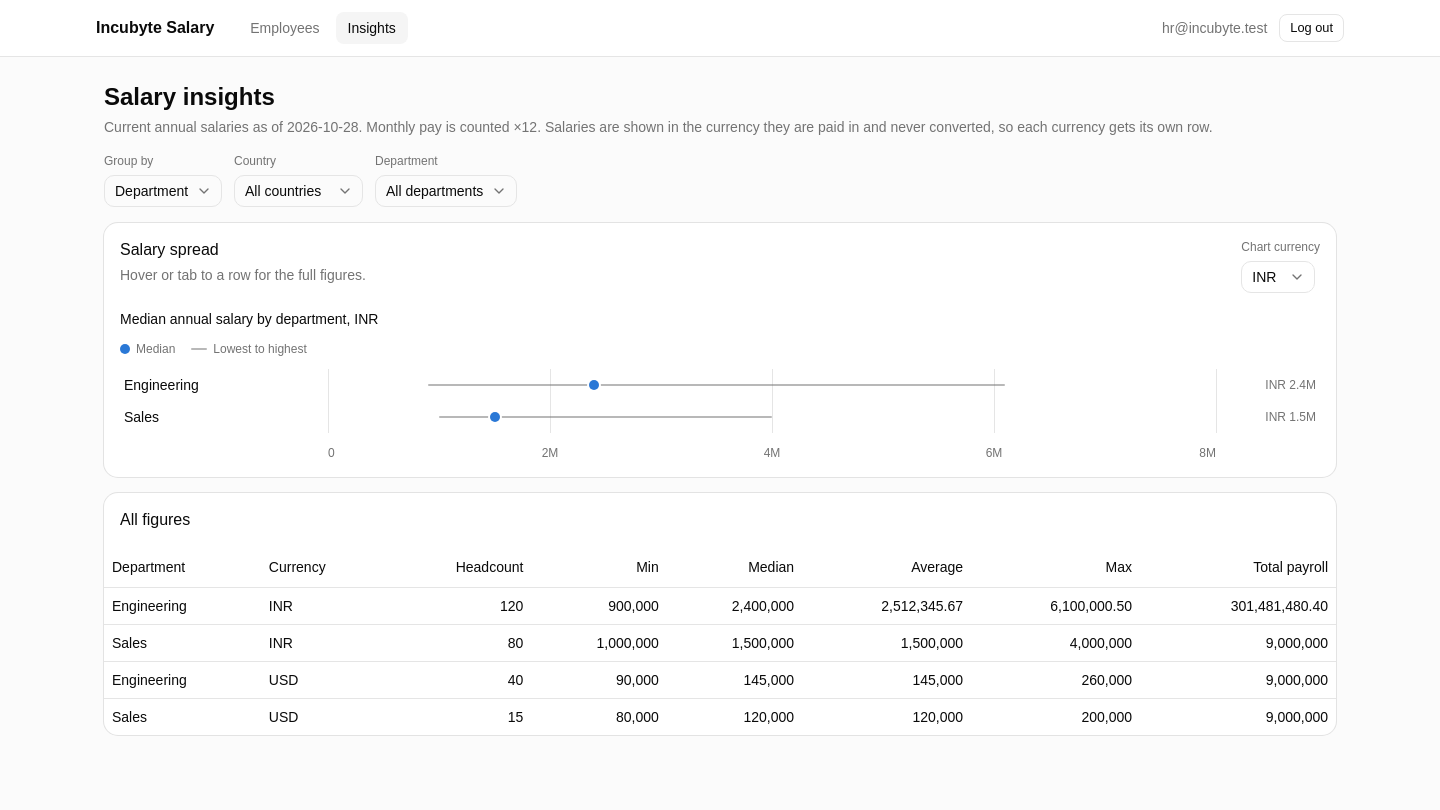
Salary insights › falls back to the main currency when a filter removes the one being charted
Select "USD" in the dropdown labelled "Chart currency" at (1278, 277), box [1241,261,1315,293]
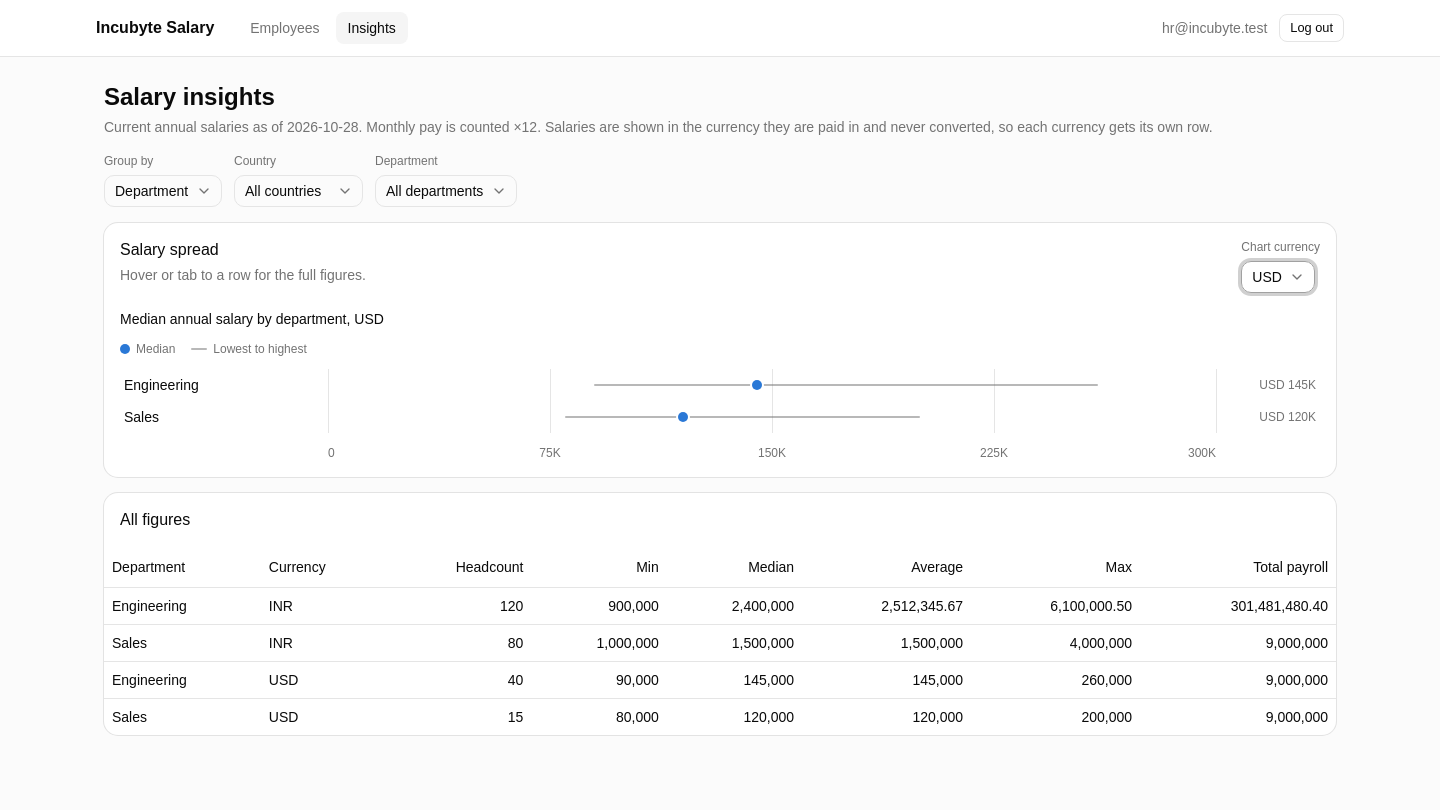
Select "India" in the dropdown labelled "Country" at (298, 191), box [234,175,363,207]
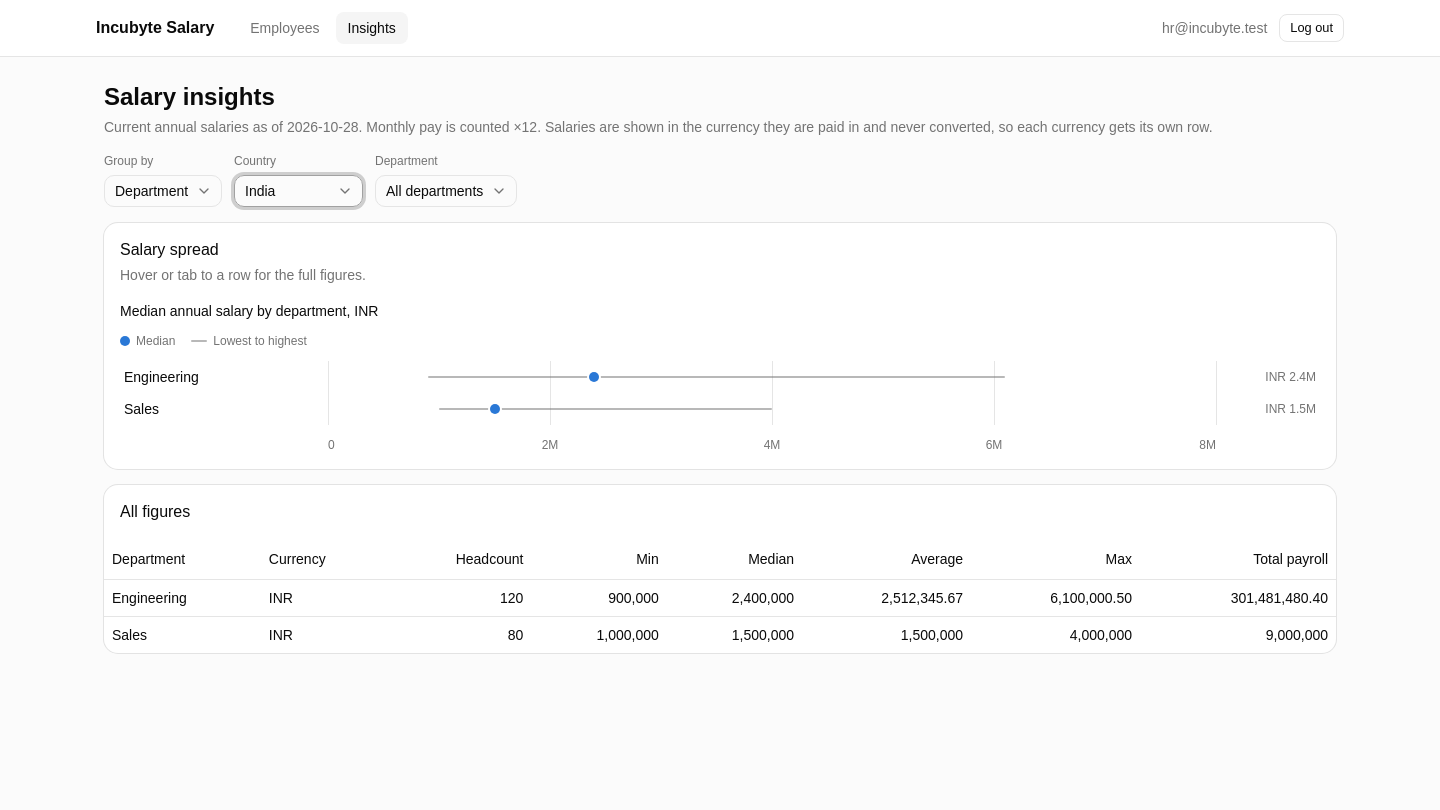
Result: the element "Median annual salary by department, INR" is shown at [120,301,1320,453]
